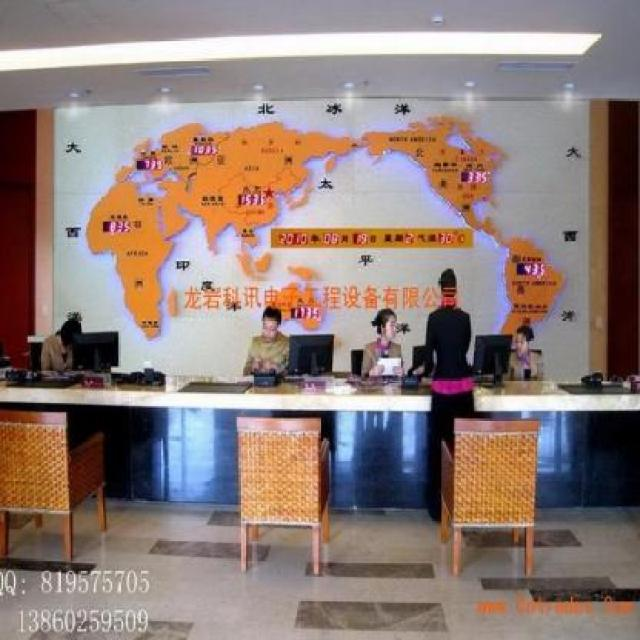frontdesk: (0, 354, 640, 527)
